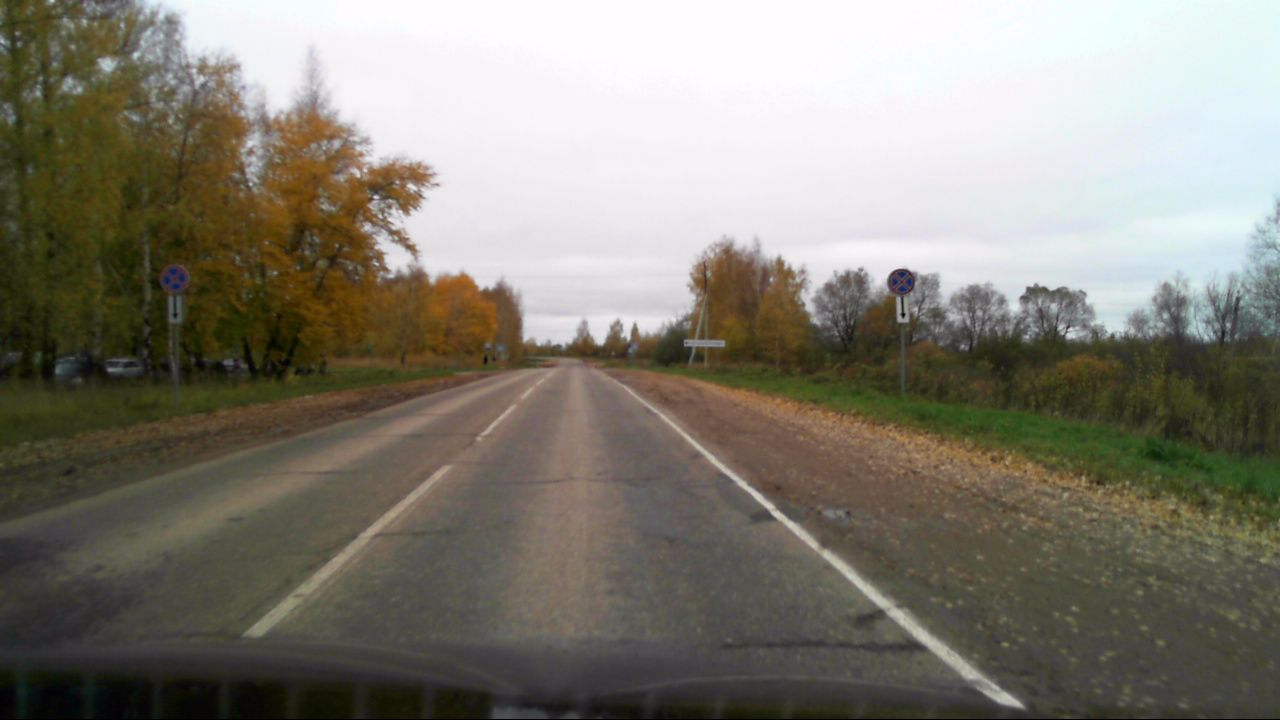No Parking: (160, 264, 189, 294)
